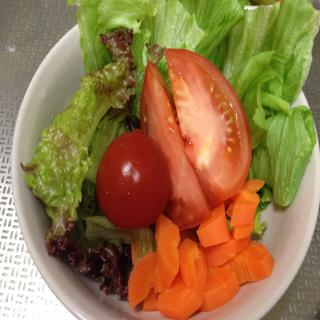tomato: (163, 45, 248, 210), (138, 58, 214, 226), (96, 130, 170, 230)
